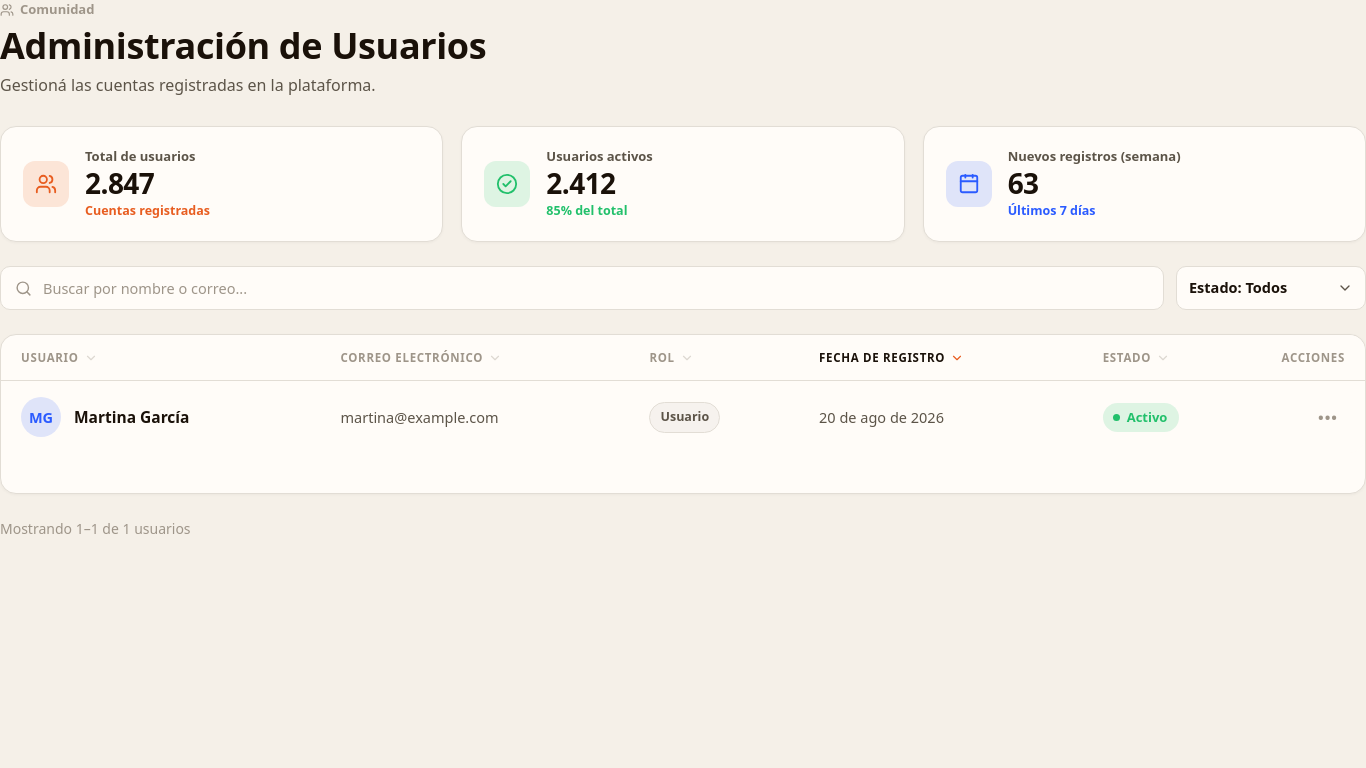
AdminUsersView › confirms a suspension and updates the visible status
Expected: the text "Martina García" is shown, [74,406,189,429]
Click the button named "Acciones para Martina García" at (1328, 417), box [1311,400,1345,434]
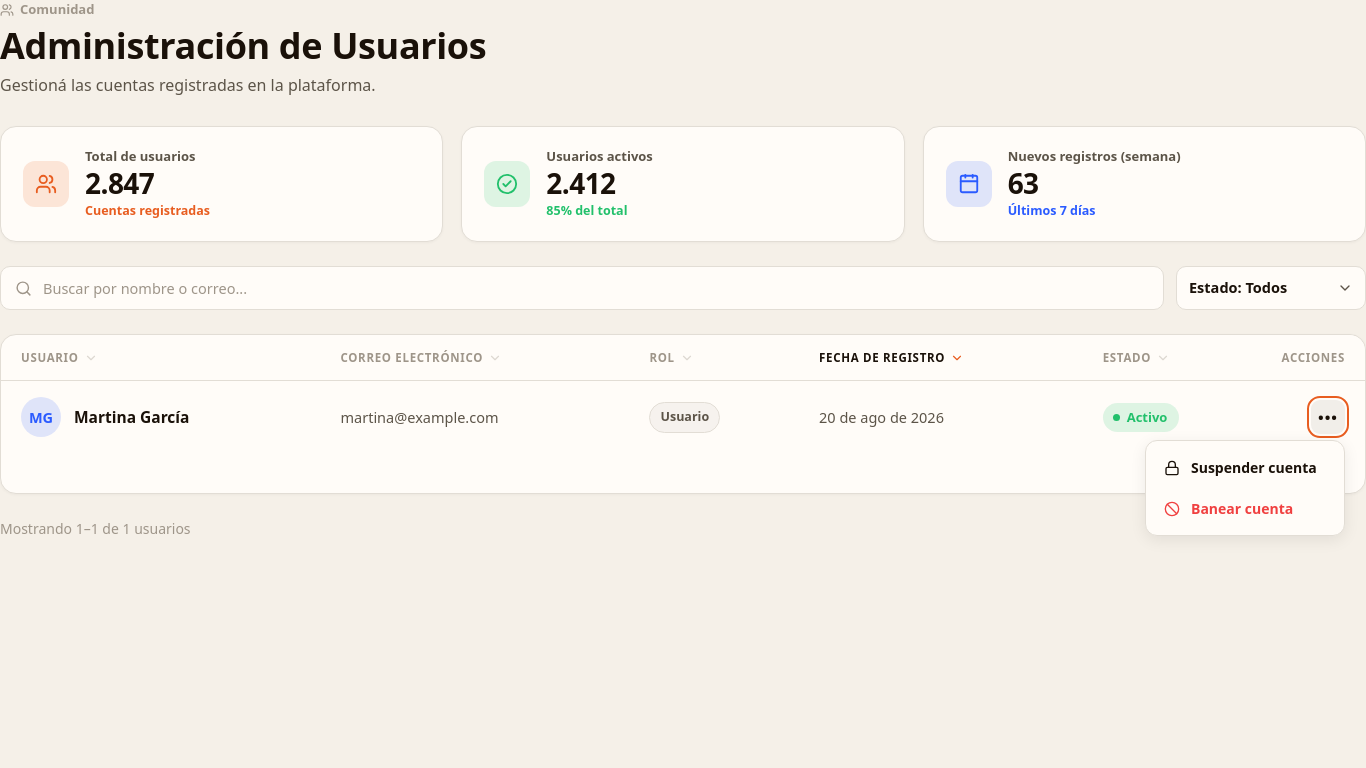
Click the menu item "Suspender cuenta" at (1245, 468), box [1152,447,1338,488]
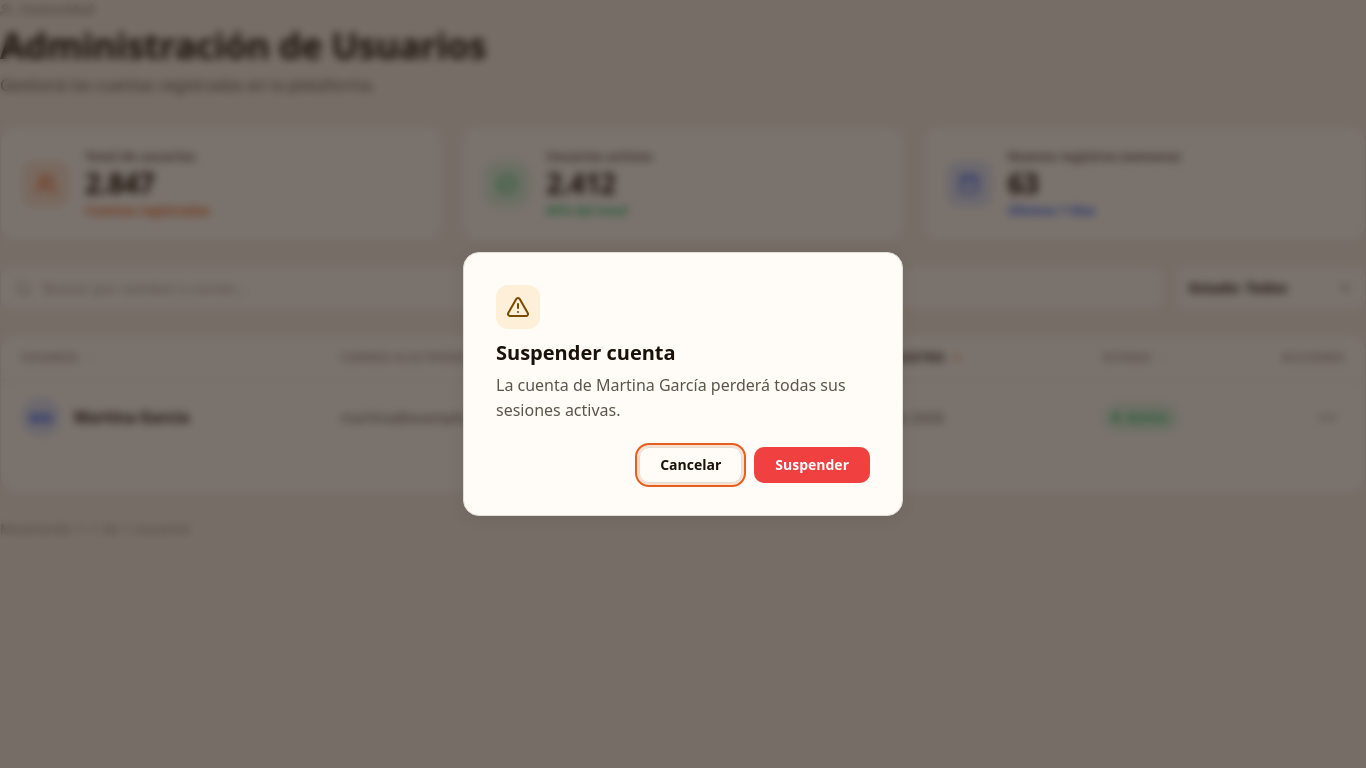
Expected: the dialog "Suspender cuenta" is shown, [463,252,903,516]
Click the button "Suspender" at (812, 465), box [754,447,870,483]
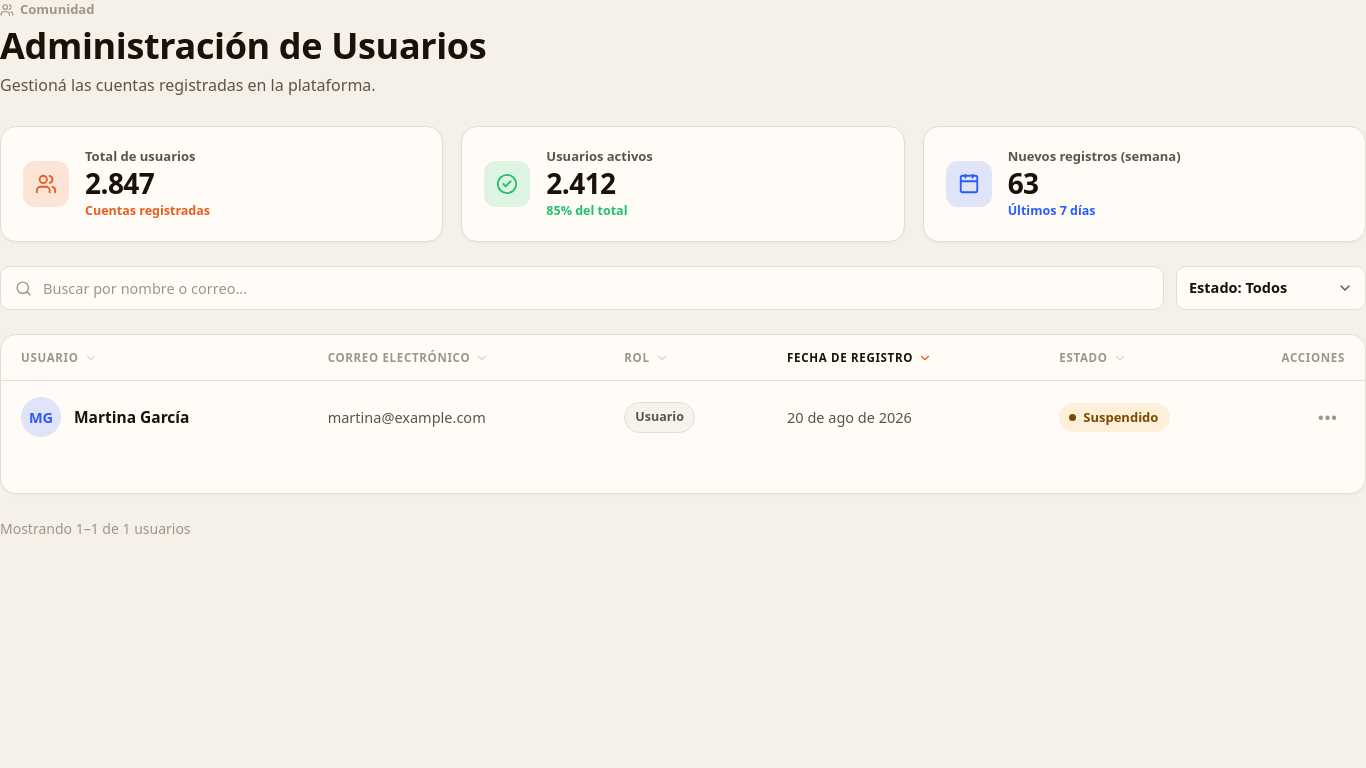
Expected: the text "Suspendido" is shown, [1059,403,1170,432]
